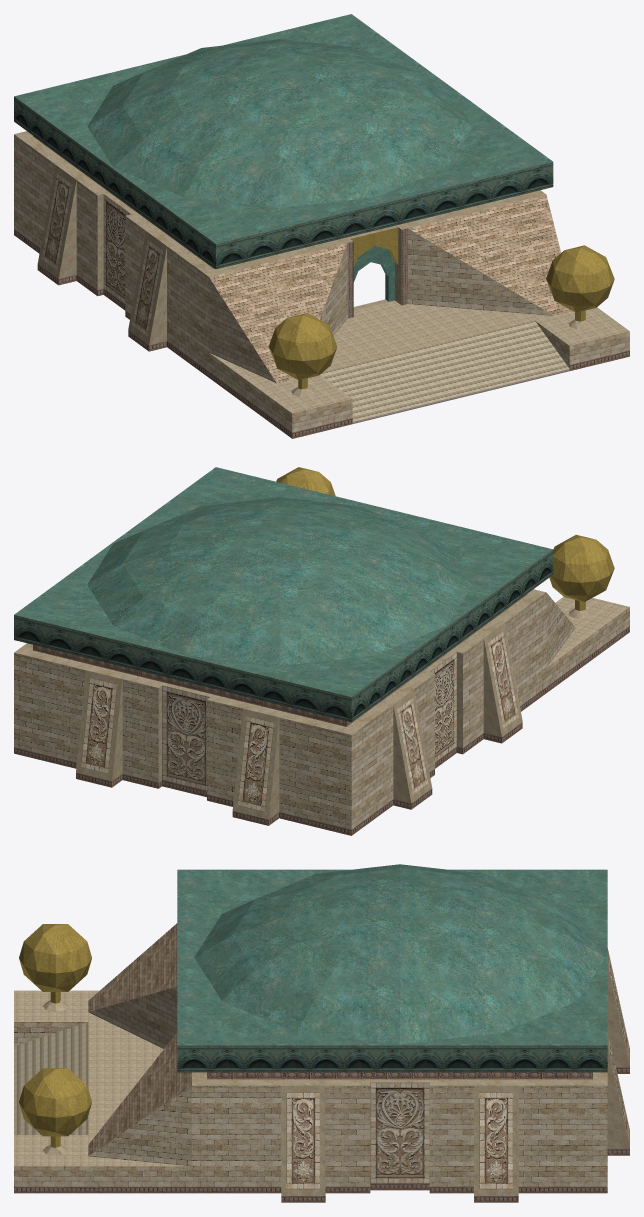
The model's file is mun_nboo_guild_commerce_s01_r0_exterior_mesh_nabo_guildcommerce_l1.fbx.
The picture shows the model from 3 angles, top to bottom: view 1: azimuth 30°, elevation 25°; view 2: azimuth 150°, elevation 25°; view 3: azimuth 270°, elevation 25°; orthographic projection. The views are drawn at different scales.
Parts seen in each view (by area): view 1: mesh_node; view 2: mesh_node; view 3: mesh_node.
Part boxes in pixels (x1=…): mesh_node: x1=14, y1=14, x2=629, y2=438; mesh_node: x1=14, y1=467, x2=629, y2=835; mesh_node: x1=14, y1=864, x2=629, y2=1202.
Size of the model in its own units: 38.75 by 18.75 by 51.88.
